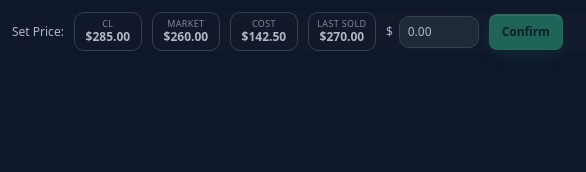
Test: PriceDecisionBar › clicking a source button syncs the dollar input
Click the button "Market $260.00". click: (186, 32)
box: [152,12,220,51]
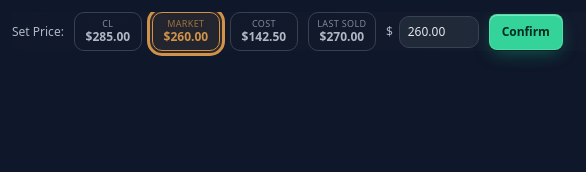
Check: the field with placeholder "0.00" holds "260.00", box [399,16,479,48]
